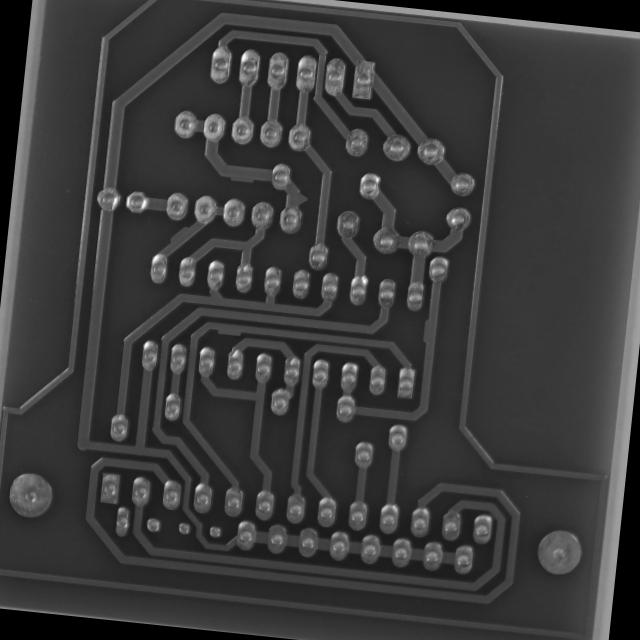spur: (222, 156, 263, 188), (162, 222, 196, 248), (283, 186, 312, 210), (213, 320, 246, 340), (419, 315, 437, 346)
